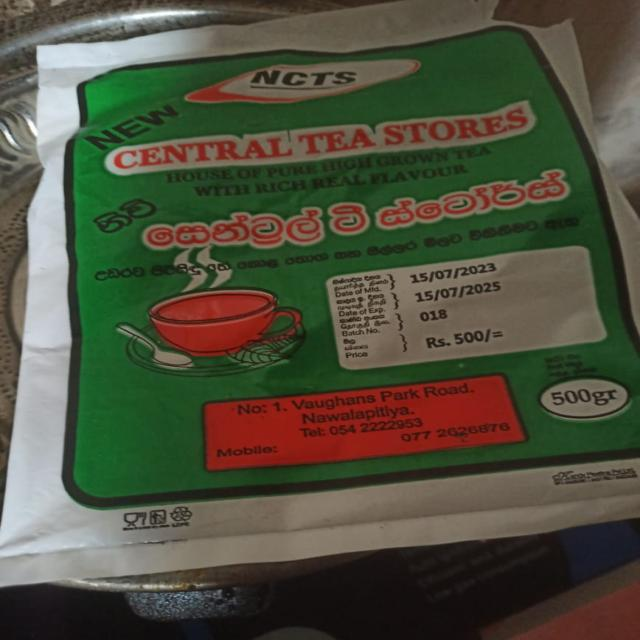Central Tea: (27, 39, 640, 584)
